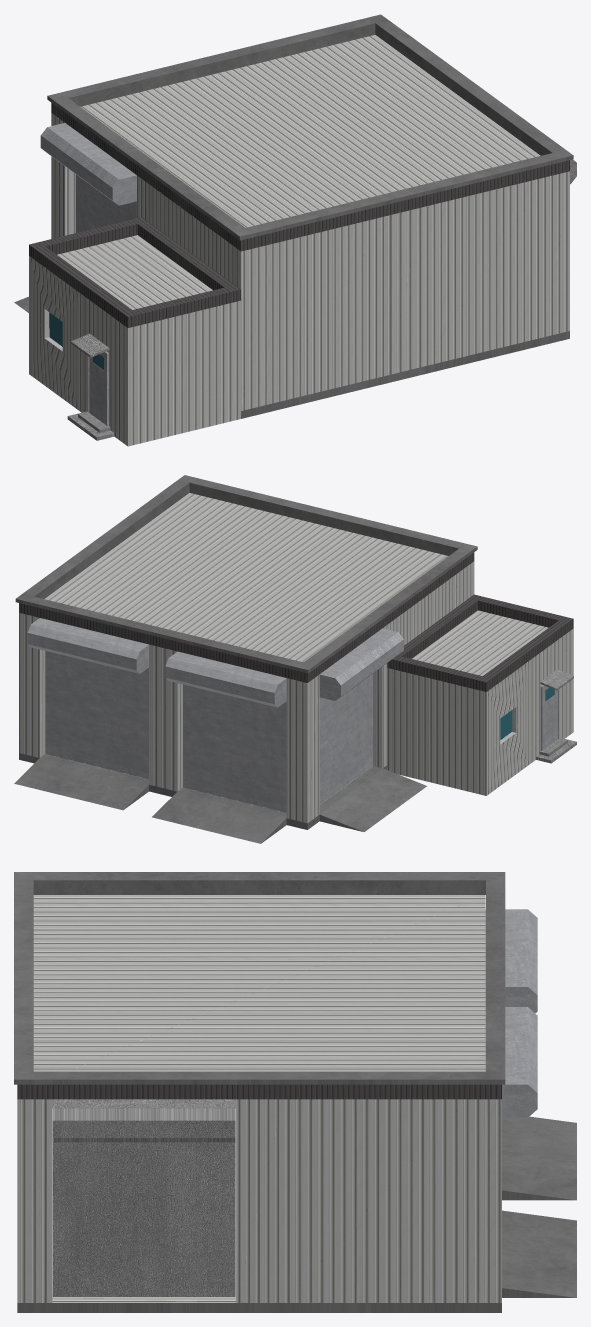
File: 受料槽.glb
3 views of the same model, one above another, from view 1: azimuth 30°, elevation 25°; view 2: azimuth 150°, elevation 25°; view 3: azimuth 270°, elevation 25° (orthographic). The views are drawn at different scales.
Visible parts, largest first — view 1: 受料槽001, 受料槽004, 受料槽002, 受料槽003, 受料槽006; view 2: 受料槽001, 受料槽003, 受料槽004, 受料槽002, 受料槽006; view 3: 受料槽001, 受料槽004, 受料槽006, 受料槽002, 受料槽003.
Boxes of the visible parts, left/top/right/bottom form: 受料槽001: left=29, top=35, right=569, bottom=446; 受料槽004: left=14, top=14, right=573, bottom=418; 受料槽002: left=29, top=103, right=569, bottom=327; 受料槽003: left=40, top=123, right=136, bottom=426; 受料槽006: left=67, top=159, right=576, bottom=440; 受料槽001: left=19, top=493, right=573, bottom=823; 受料槽003: left=27, top=618, right=559, bottom=812; 受料槽004: left=14, top=475, right=477, bottom=843; 受料槽002: left=19, top=552, right=573, bottom=691; 受料槽006: left=536, top=669, right=576, bottom=763; 受料槽001: left=17, top=895, right=501, bottom=1302; 受料槽004: left=14, top=872, right=576, bottom=1312; 受料槽006: left=52, top=1099, right=235, bottom=1296; 受料槽002: left=17, top=1084, right=501, bottom=1099; 受料槽003: left=502, top=909, right=537, bottom=1117.
Size of the model in its own units: 22.84 by 8.32 by 18.1.
Materials: 6 (6 with a texture image).
